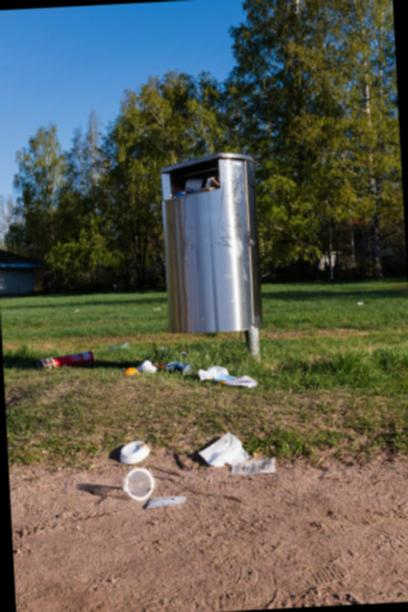trash: (102, 339, 246, 411), (196, 420, 252, 480), (31, 338, 99, 382), (153, 160, 221, 202), (113, 460, 168, 510), (212, 448, 284, 486), (112, 430, 169, 465), (138, 484, 190, 518)
trash_can_overflow: (109, 115, 270, 424)
